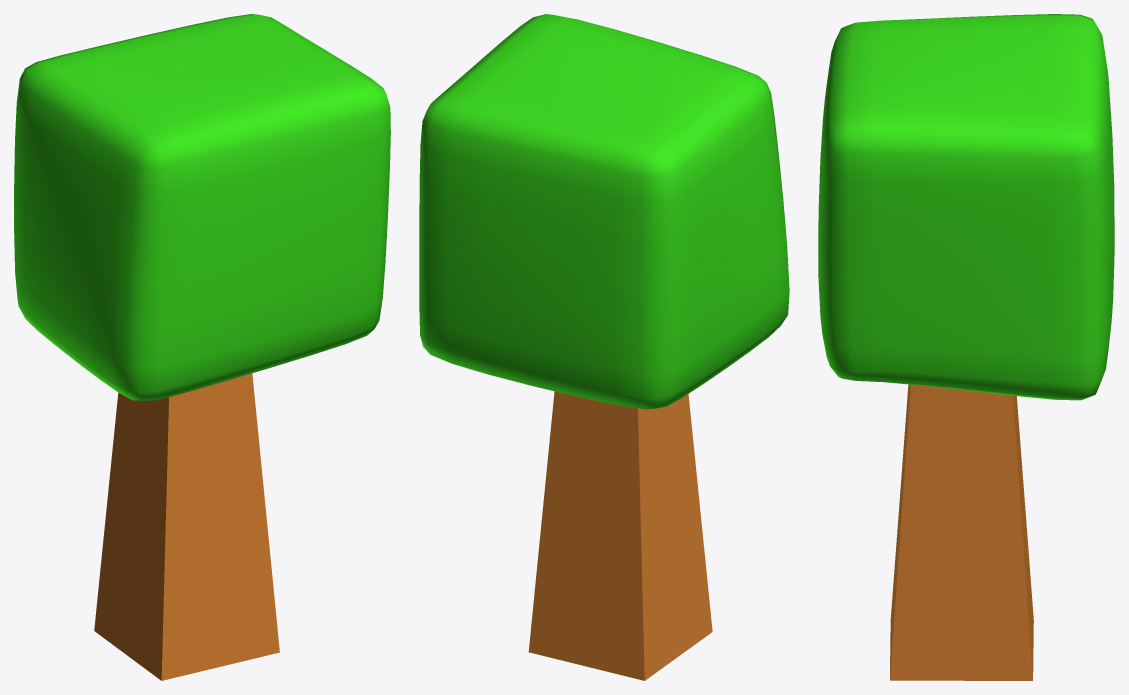
The model's file is tree1.fbx.
The picture shows the model from 3 angles, left to right: view 1: azimuth 30°, elevation 25°; view 2: azimuth 150°, elevation 25°; view 3: azimuth 270°, elevation 25°; orthographic projection. The views are drawn at different scales.
Parts seen in each view (by area): view 1: Cube.335, Cube.336; view 2: Cube.335, Cube.336; view 3: Cube.335, Cube.336.
Part boxes in pixels (x1,y1,x2,y2): Cube.335: [14, 14, 390, 400]; Cube.336: [94, 373, 279, 680]; Cube.335: [419, 14, 789, 409]; Cube.336: [528, 391, 712, 680]; Cube.335: [818, 14, 1114, 400]; Cube.336: [890, 384, 1033, 680].
Bounding box in the file's own units: 1698 × 3429 × 1543.
